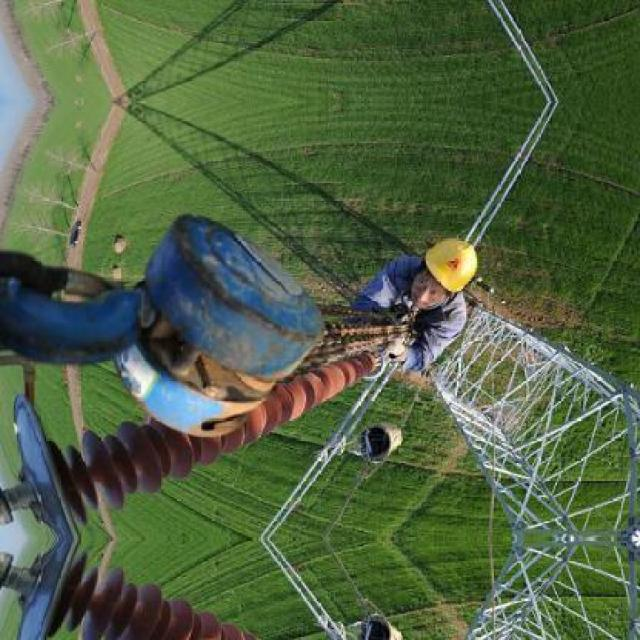helmet: (411, 230, 478, 308)
